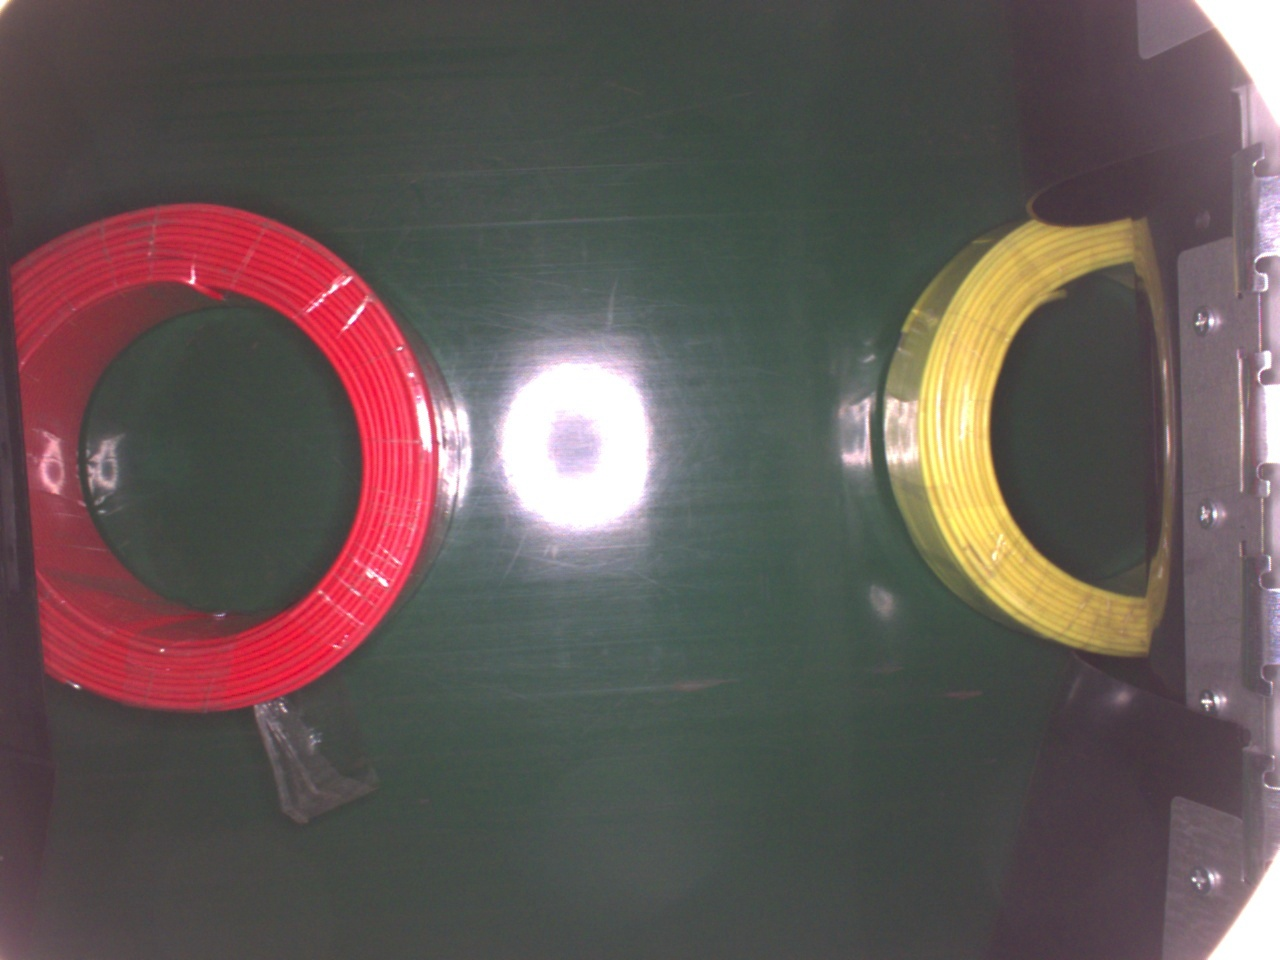red: (6, 198, 460, 708)
yellow: (880, 213, 1155, 662)
